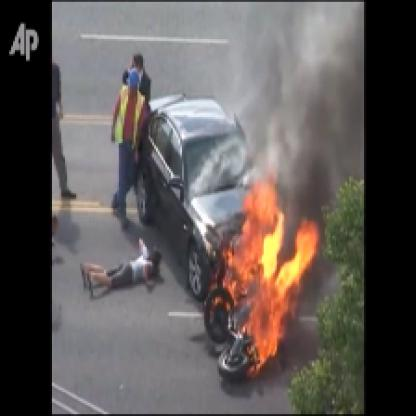Fire: (208, 169, 318, 383)
Smoke: (238, 2, 364, 174)
